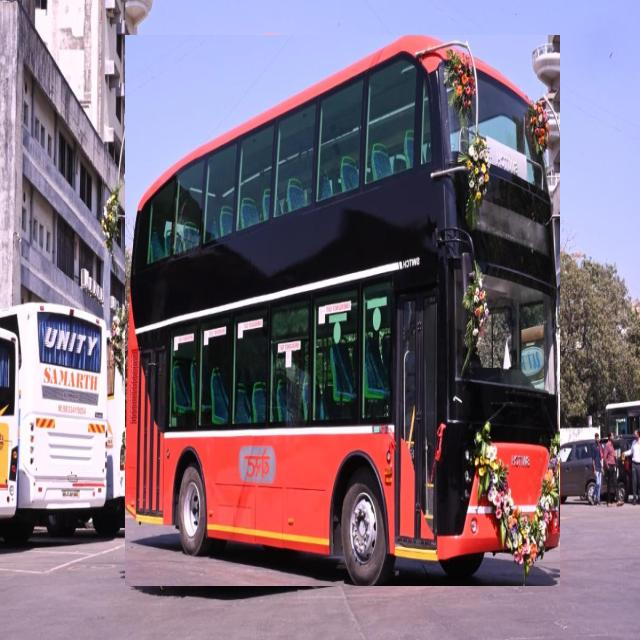bus: (125, 35, 560, 586)
